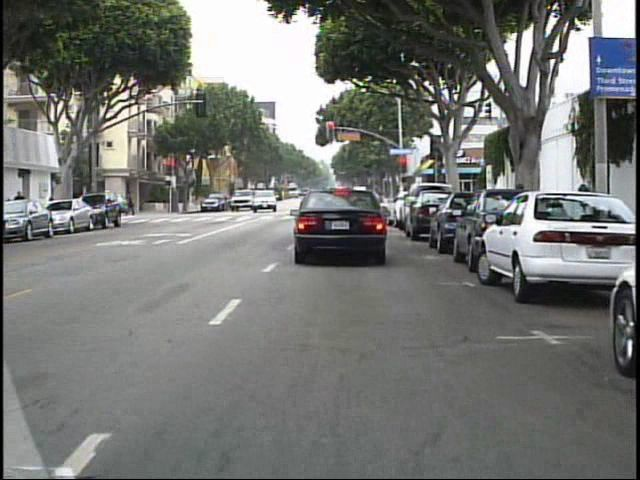person: (14, 187, 31, 231), (121, 189, 137, 219)
